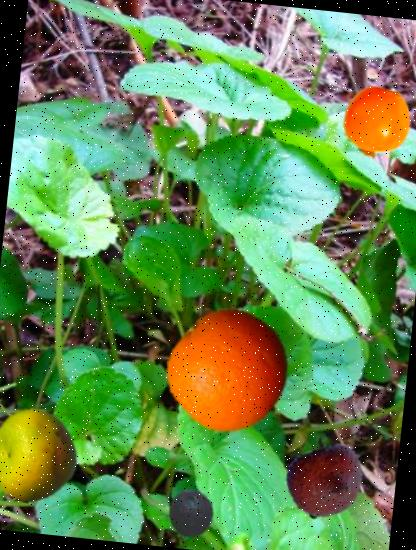Avocado: (160, 486, 218, 543)
Orange: (160, 302, 297, 438)
Physalis: (337, 86, 415, 163)
Pomelo: (0, 404, 86, 508)
Salak: (282, 440, 369, 526)
